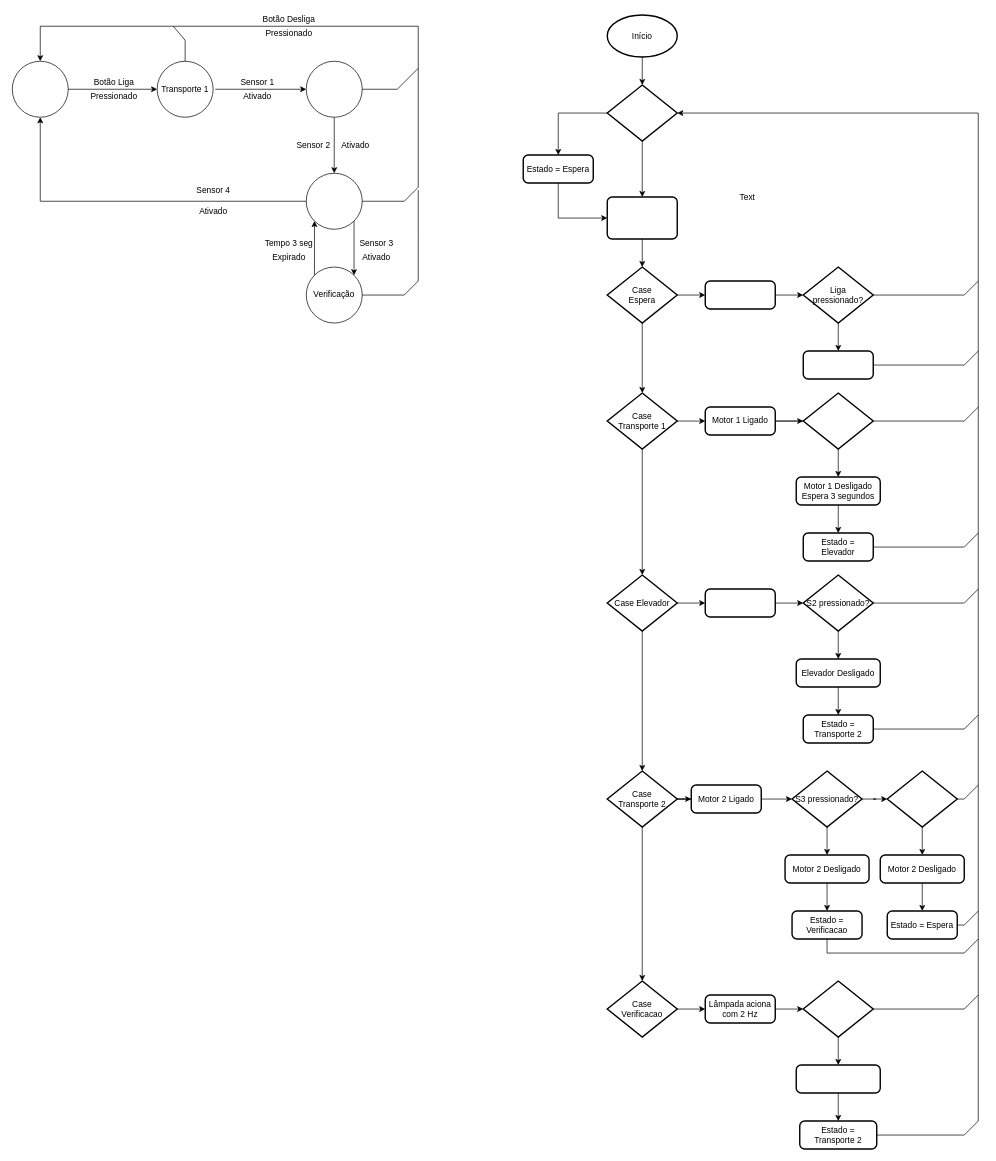
Some shapes in this 996 by 1161 pixel diagram are drawn without their labels. Here are the shapes that lost their labels. From the top down, the box of each, then its label:
(12, 61, 68, 117): Espera
(306, 61, 362, 117): Elevador
(606, 84, 678, 141): Desliga pressionado?
(306, 173, 362, 229): Transporte 2
(606, 196, 678, 239): Switch Estado
(704, 280, 776, 309): Saídas Desligadas
(802, 350, 874, 379): Estado = Transporte 1
(802, 392, 874, 449): S1 pressionado?
(704, 588, 776, 617): Elevador Ligado
(886, 770, 958, 827): S4 pressionado?
(802, 980, 874, 1037): Se passou 3 segundos?
(795, 1064, 881, 1093): Lâmpada Desligada
